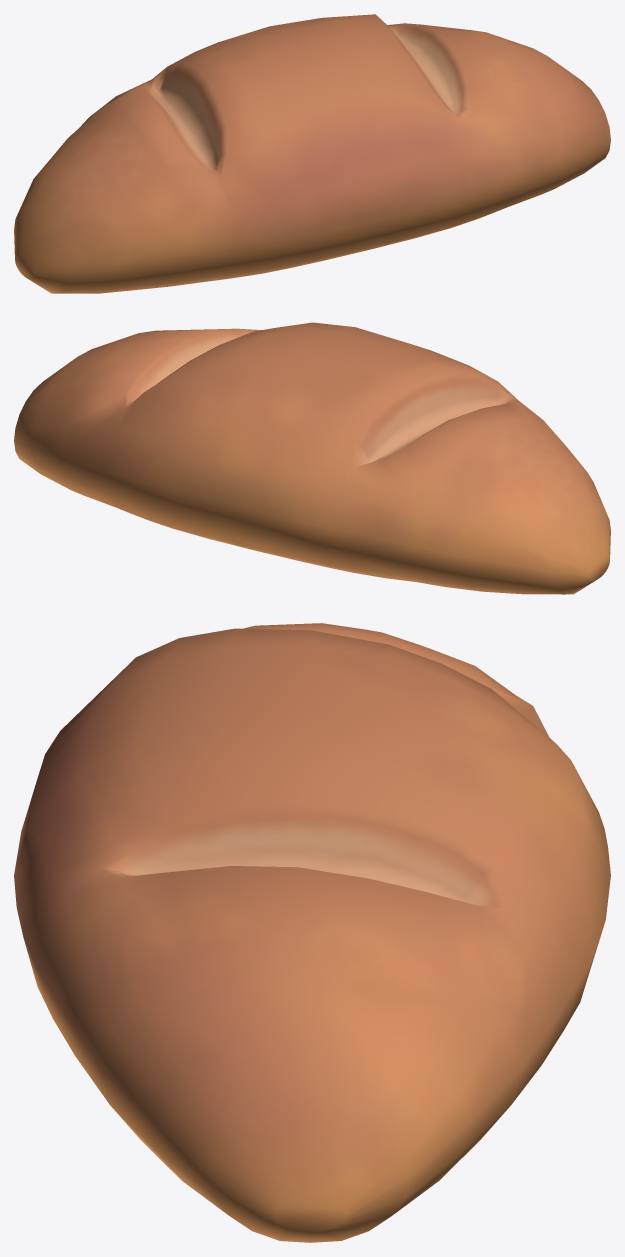
Rendered from bread_1.fbx.
3 views of the same model, one above another, from view 1: azimuth 30°, elevation 25°; view 2: azimuth 150°, elevation 25°; view 3: azimuth 270°, elevation 25° (orthographic). The views are drawn at different scales.
Parts seen in each view (by area): view 1: pie.002; view 2: pie.002; view 3: pie.002.
Boxes of the visible parts, left/top/right/bottom form: pie.002: left=14, top=14, right=610, bottom=293; pie.002: left=14, top=322, right=610, bottom=594; pie.002: left=14, top=623, right=610, bottom=1242.
Size of the model in its own units: 30.04 by 9.13 by 15.51.
